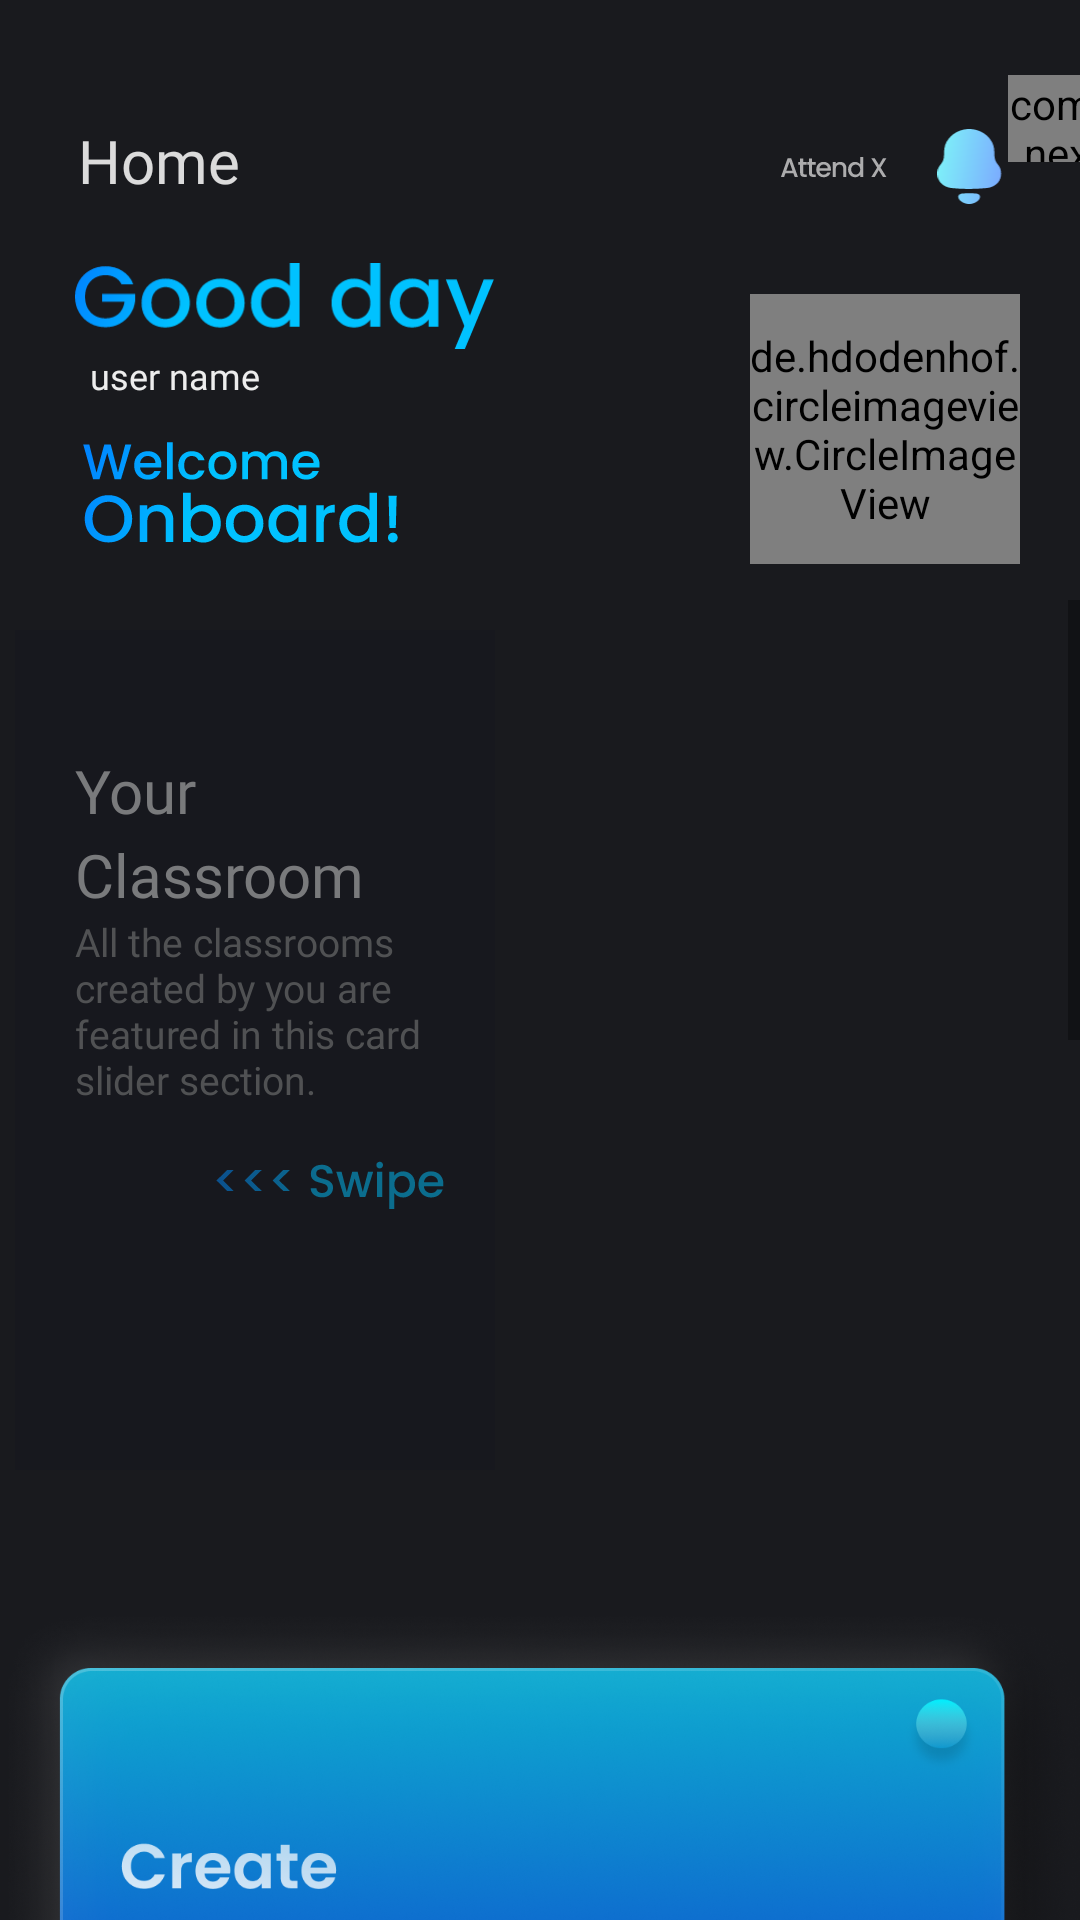

Where icons sit on this 1080px×1920px app screen, as (x1, y1, x2, y2):
bell: (937, 129, 1002, 204)
